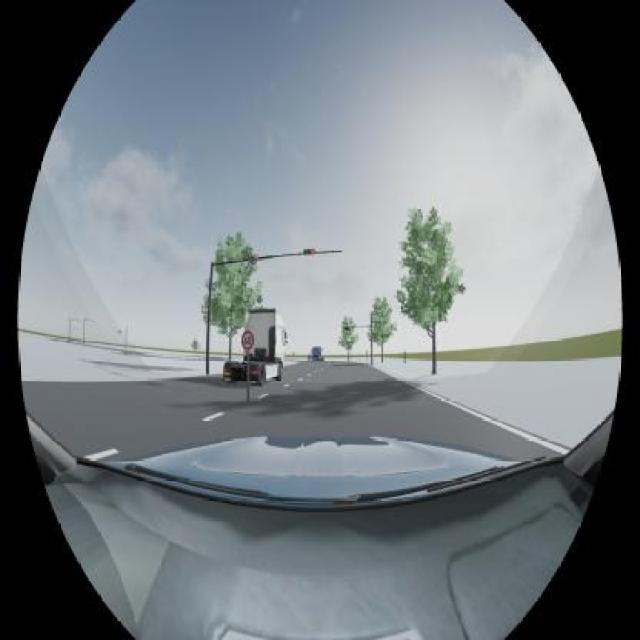forb_speed_over_60: (241, 332, 254, 350)
